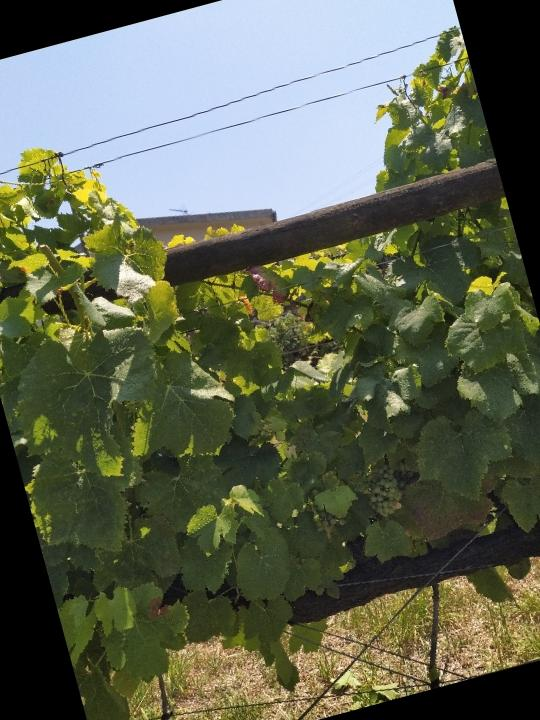grape: (353, 460, 410, 524)
